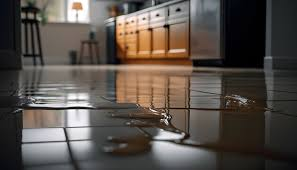Wet-floor: (17, 68, 297, 170)
